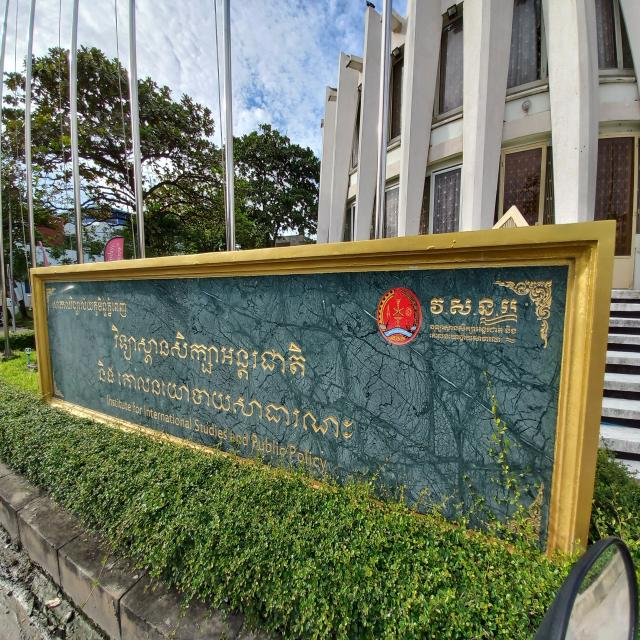1: (94, 358, 358, 445)
2: (428, 322, 520, 344)
Yolov11kh: (108, 324, 309, 390), (427, 292, 517, 321), (51, 295, 127, 319)
